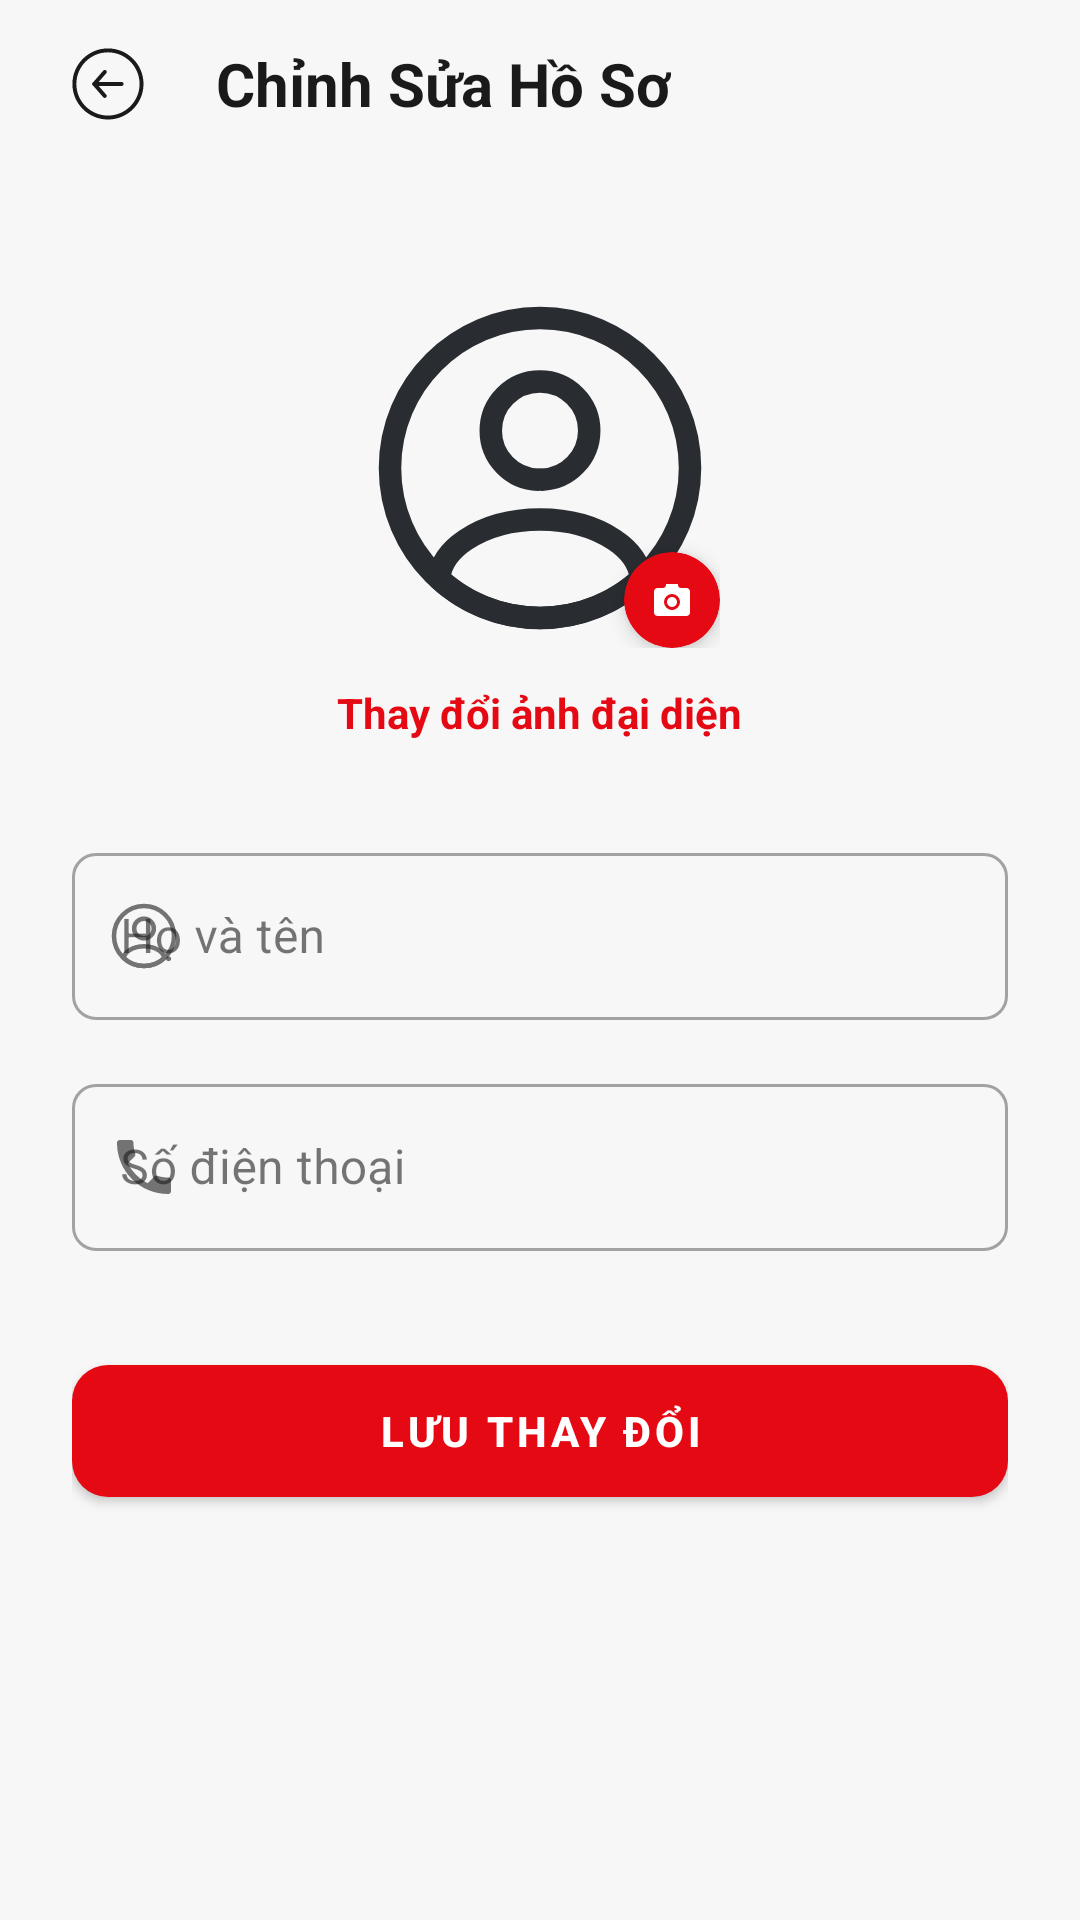

Icon click points for this 1080×1920 phone screenshot, format point (x, y):
back: point (108, 84)
